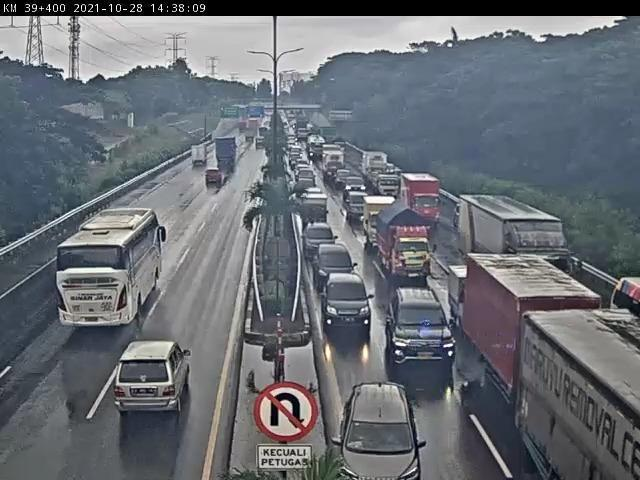bus: (34, 207, 180, 343)
car: (336, 379, 428, 480), (386, 286, 453, 374), (115, 338, 188, 418), (324, 272, 371, 339), (319, 237, 360, 287), (303, 219, 341, 255), (350, 194, 381, 228), (204, 166, 228, 193)
truck: (530, 315, 640, 480), (476, 256, 595, 402), (379, 195, 437, 281), (404, 173, 447, 226), (365, 198, 403, 249), (452, 266, 479, 332), (214, 136, 249, 171), (187, 143, 212, 167)
